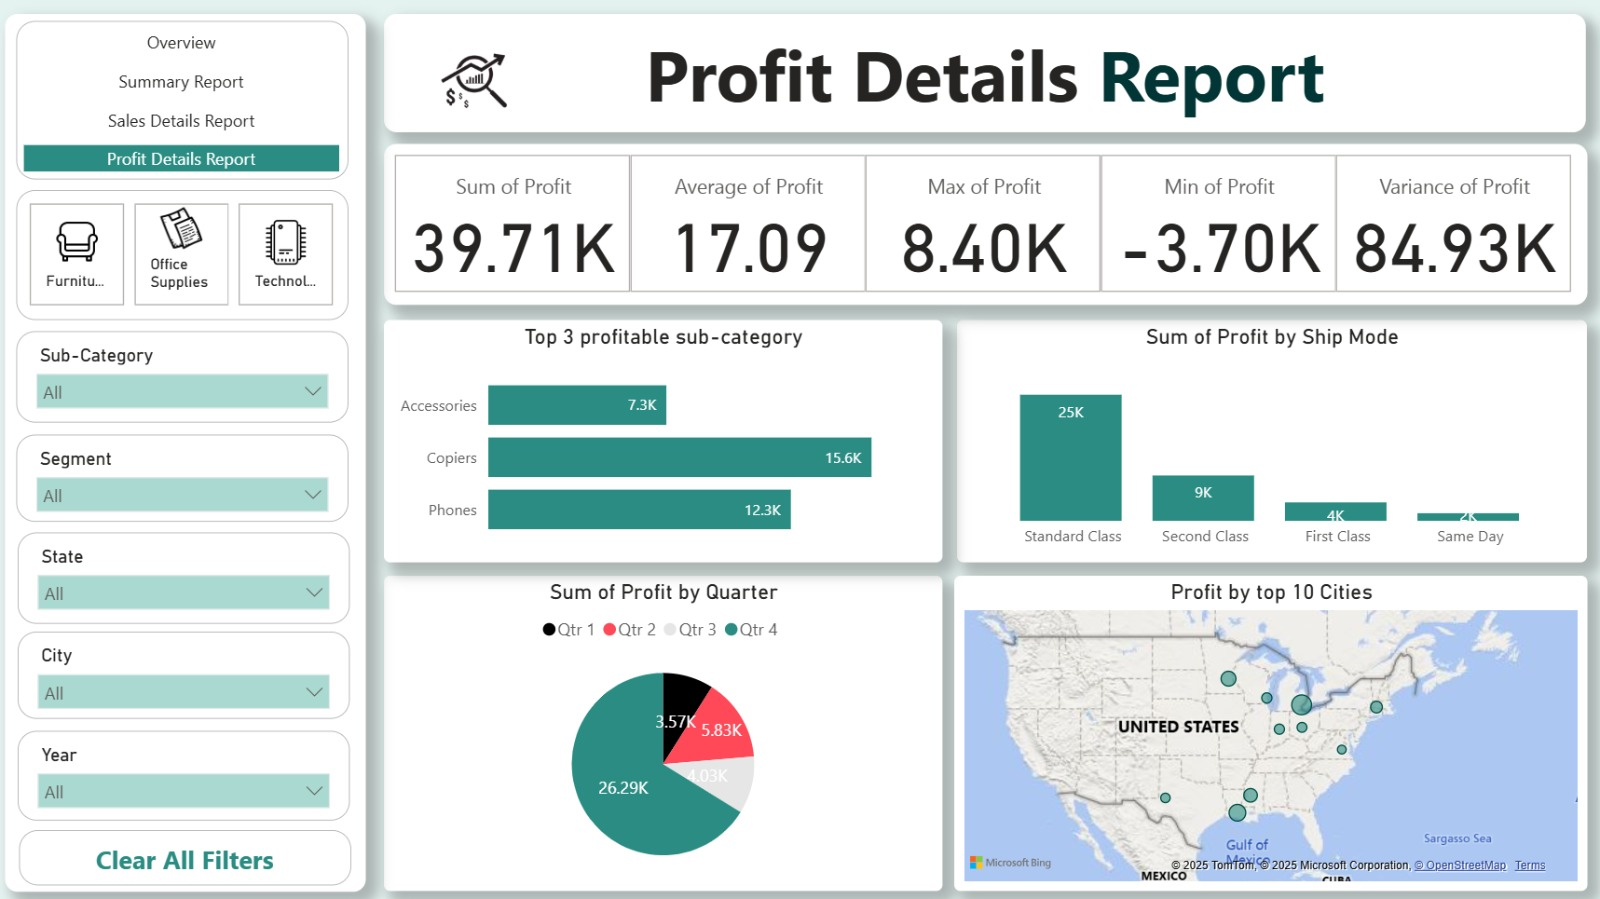

What the dashboard file says about the page in this screenshot:
{"tool":"powerbi","page":{"name":"Profit Details Report","canvas":[1280,720],"ordinal":3},"visuals":[{"type":"textbox","box":[309.3,11.3,955.3,93.9],"z":0},{"type":"slicer","fields":{"Values":["Central_Region.Order Date.Variation.Date Hierarchy.Year"]},"box":[18.8,581.2,263.9,71.2],"z":0,"group":"g1"},{"type":"image","box":[294.7,0,171.6,127.9],"z":1000},{"type":"slicer","fields":{"Values":["Central_Region.City"]},"box":[18.8,502,263.9,69.6],"z":1000,"group":"g1"},{"type":"columnChart","fields":{"Category":["Central_Region.Ship Mode"],"Y":["Sum(Central_Region.Profit)"]},"box":[764.3,254.2,500.3,192.7],"z":2000},{"type":"slicer","fields":{"Values":["Central_Region.Segment"]},"box":[17.2,344.9,263.9,69.6],"z":2000,"group":"g1"},{"type":"slicer","fields":{"Values":["Central_Region.Sub-Category"]},"box":[17.3,262.3,263.9,72.9],"z":3000,"group":"g1"},{"type":"pieChart","fields":{"Category":["Central_Region.Order Date.Variation.Date Hierarchy.Quarter"],"Y":["Sum(Central_Region.Profit)"]},"box":[309.3,458.2,443.7,251],"z":3000},{"type":"advancedSlicerVisual","fields":{"Values":["Cat_Image.Category"]},"box":[17.3,150.6,263.9,103.6],"z":4000,"group":"g1"},{"type":"map","title":"Profit by top 10 Cities","fields":{"Category":["Central_Region.City"],"Size":["Sum(Central_Region.Profit)"]},"box":[762.7,458.2,503.6,251],"z":4000},{"type":"cardVisual","fields":{"Data":["Sum(Central_Region.Profit)","Avg(Central_Region.Profit)","Max(Central_Region.Profit)","Min(Central_Region.Profit)","Variance(Central_Region.Profit)"]},"box":[309.3,115,957,127.9],"z":5000},{"type":"slicer","fields":{"Values":["Central_Region.State"]},"box":[18.8,422.5,263.9,72.9],"z":5000,"group":"g1"},{"type":"textbox","box":[8.1,11.3,286.6,697.9],"z":6000},{"type":"actionButton","title":"Clear All Filters","box":[18.9,659,263.9,43.7],"z":6000,"group":"g1"},{"type":"pageNavigator","box":[17.3,16.2,263.9,126.3],"z":7000,"group":"g1"},{"type":"group","id":"g1","title":"Group 1","box":[17.2,16.2,265.7,686.6],"z":7000},{"type":"barChart","title":"Top 3 profitable sub-category","fields":{"Y":["Sum(Central_Region.Profit)"],"Category":["Central_Region.Sub-Category"]},"box":[309.3,254.2,443.7,192.7],"z":8000}]}

Visuals, with their boxes in screenshot pixels (x1, y1, x2, y2), scaled from the page's 1280x720 canvas onto the 1600x899 screenshot:
textbox: detection(387, 14, 1581, 131)
slicer - Central_Region.Order Date.Variation.Date Hierarchy.Year: detection(24, 726, 353, 815)
image: detection(368, 0, 583, 160)
slicer - Central_Region.City: detection(24, 627, 353, 714)
columnChart - Central_Region.Ship Mode x Sum(Central_Region.Profit): detection(955, 317, 1581, 558)
slicer - Central_Region.Segment: detection(22, 431, 351, 518)
slicer - Central_Region.Sub-Category: detection(22, 328, 352, 419)
pieChart - Central_Region.Order Date.Variation.Date Hierarchy.Quarter x Sum(Central_Region.Profit): detection(387, 572, 941, 886)
advancedSlicerVisual - Cat_Image.Category: detection(22, 188, 352, 317)
"Profit by top 10 Cities" map: detection(953, 572, 1583, 886)
cardVisual - Sum(Central_Region.Profit) x Avg(Central_Region.Profit): detection(387, 144, 1583, 303)
slicer - Central_Region.State: detection(24, 528, 353, 619)
textbox: detection(10, 14, 368, 886)
"Clear All Filters" actionButton: detection(24, 823, 353, 877)
pageNavigator: detection(22, 20, 352, 178)
"Group 1" group: detection(22, 20, 354, 878)
"Top 3 profitable sub-category" barChart: detection(387, 317, 941, 558)
